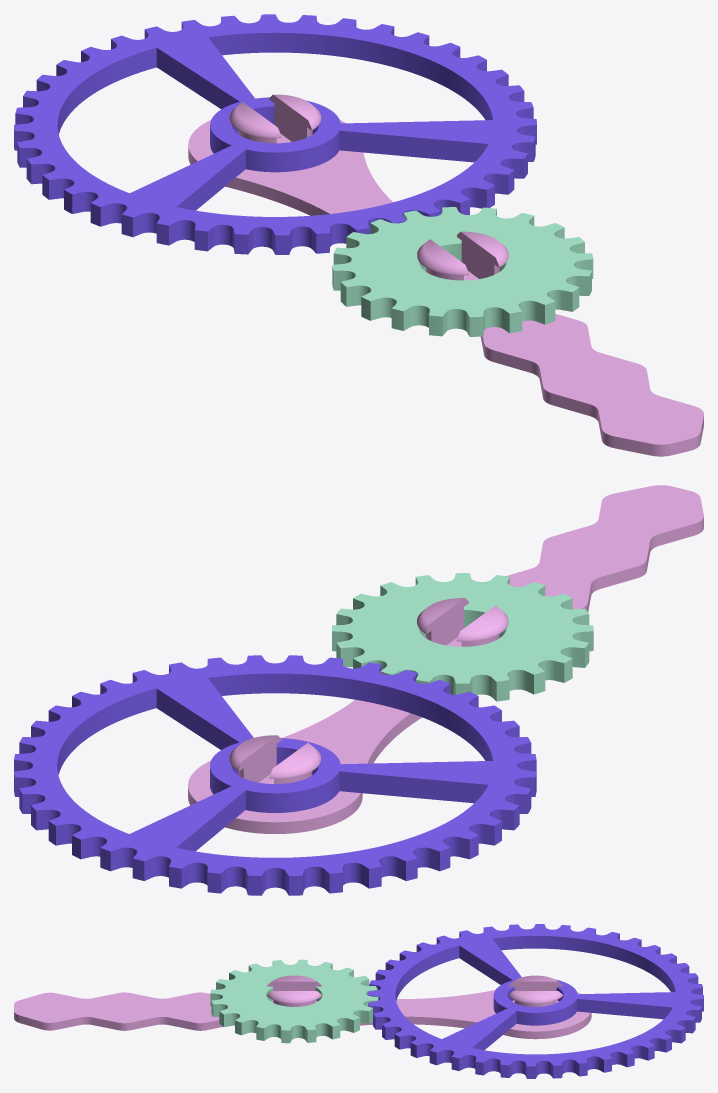
3 views of the same model, one above another, from view 1: azimuth 30°, elevation 25°; view 2: azimuth 150°, elevation 25°; view 3: azimuth 270°, elevation 25° (orthographic). The views are drawn at different scales.
Visible parts, largest first — view 1: split_parent_2, split_parent_0, Object_2.018; view 2: split_parent_2, split_parent_0, Object_2.018; view 3: split_parent_2, split_parent_0, Object_2.018.
Part boxes in pixels (x1,y1,x2,y2): split_parent_2: (14,14,536,254); split_parent_0: (188,94,703,456); Object_2.018: (332,207,593,336); split_parent_2: (14,655,536,895); split_parent_0: (188,485,703,833); Object_2.018: (332,573,593,701); split_parent_2: (367,924,703,1078); split_parent_0: (14,975,591,1039); Object_2.018: (210,959,378,1043).
Bounding box in the file's own units: 0.4878 × 0.0467 × 1.
